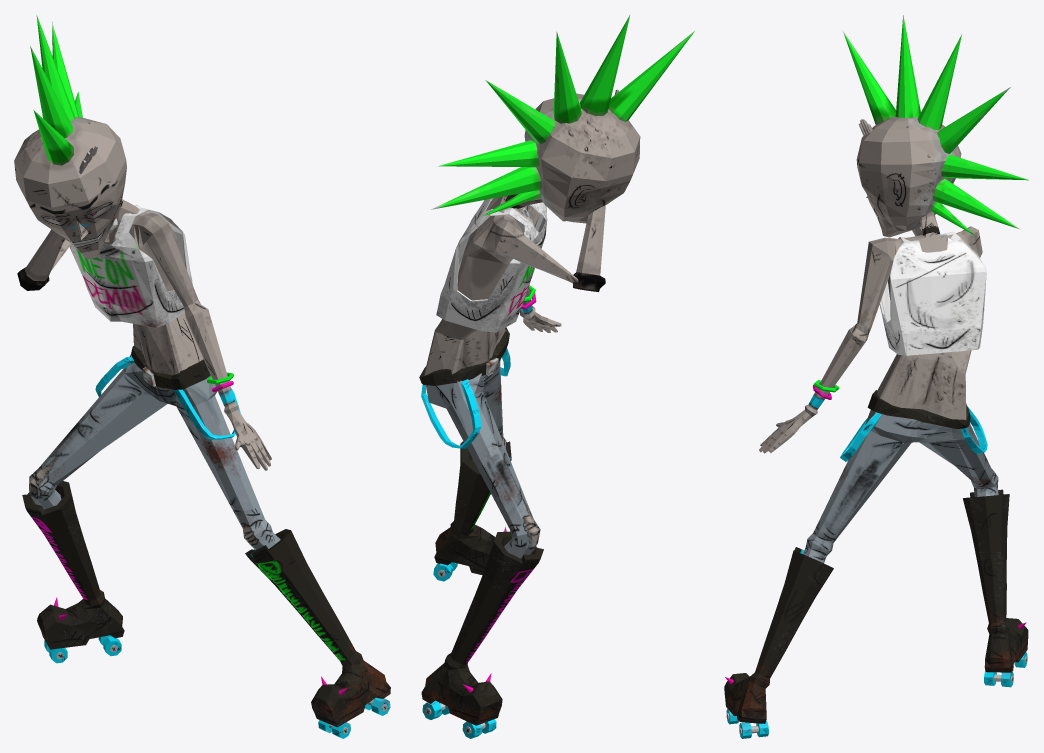
File: punkAnimation_000045.obj
3 views of the same model, side by side, from view 1: azimuth 30°, elevation 25°; view 2: azimuth 150°, elevation 25°; view 3: azimuth 270°, elevation 25° (orthographic). The views are drawn at different scales.
Visible parts, largest first — view 1: Cube.004_Cube.003; view 2: Cube.004_Cube.003; view 3: Cube.004_Cube.003.
Part boxes in pixels (x1,y1,x2,y2): Cube.004_Cube.003: (14,15,390,738); Cube.004_Cube.003: (419,15,694,738); Cube.004_Cube.003: (724,15,1028,738).
Size of the model in its own units: 3.14 by 6.72 by 3.03.
